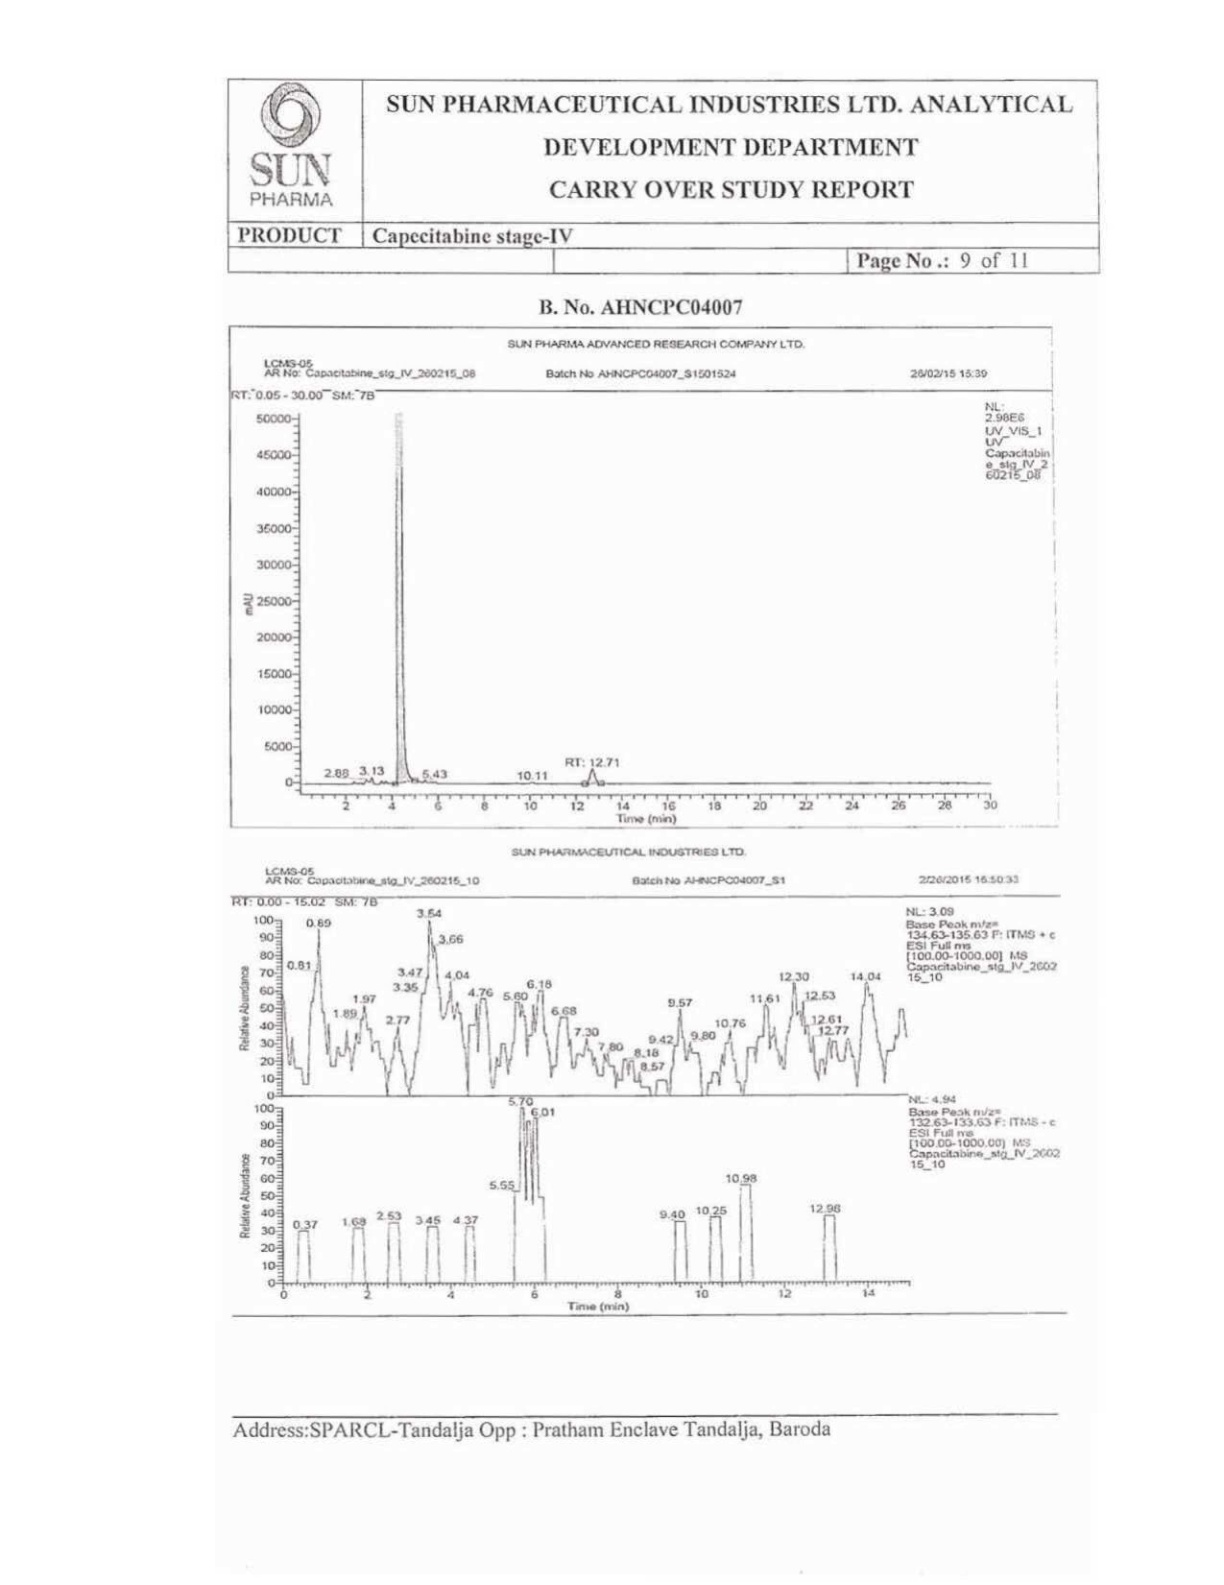merged_cells: (226, 76, 1101, 276)
